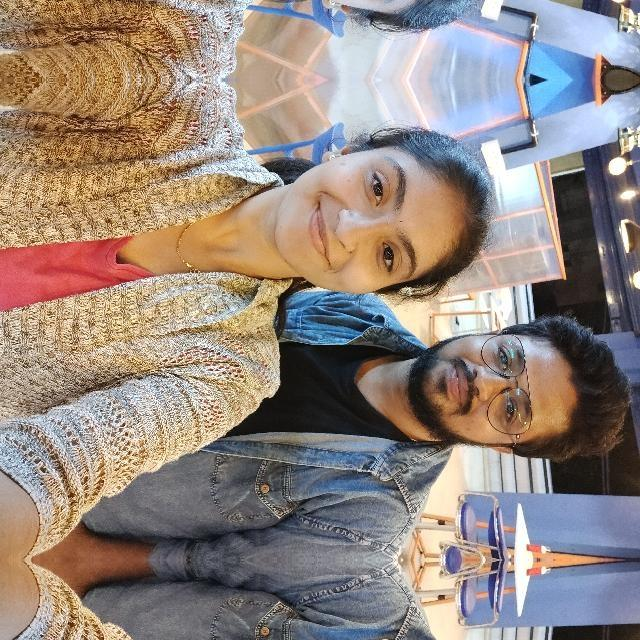person: (28, 216, 235, 482), (218, 90, 422, 348), (218, 0, 422, 70), (28, 638, 235, 640)
